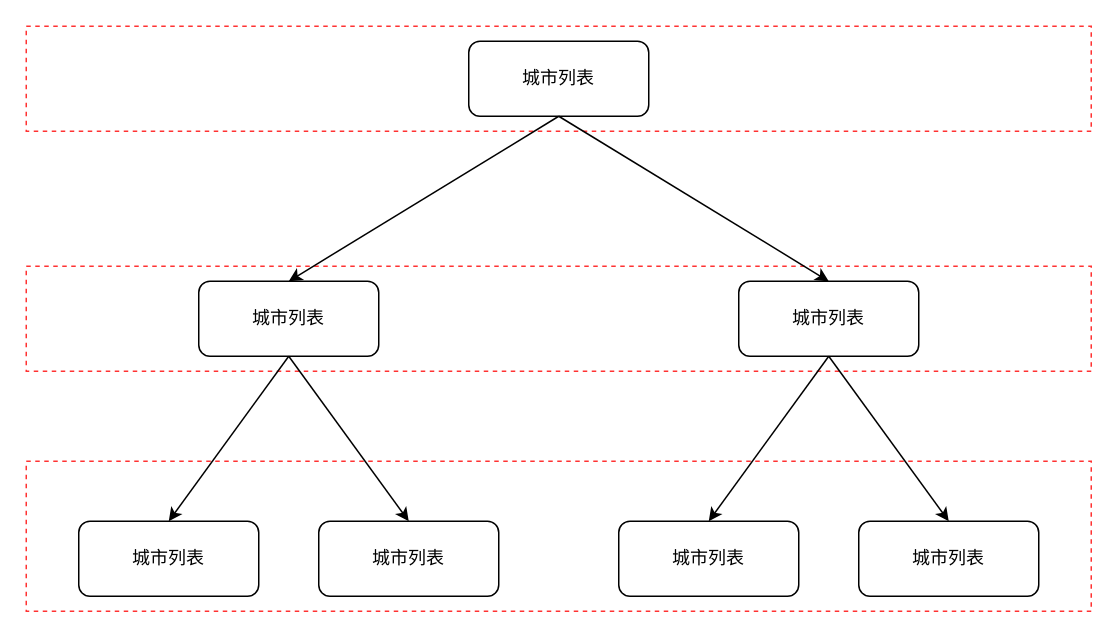
Image size: 1118x638. Some labels were removed from this diagram. The box of each missing label's shape, as (x1, y1, x2, y2) in pixels:
城市列表解析器: (25, 25, 1091, 131)
城市解析器: (25, 265, 1091, 371)
用户解析器: (25, 460, 1091, 611)
